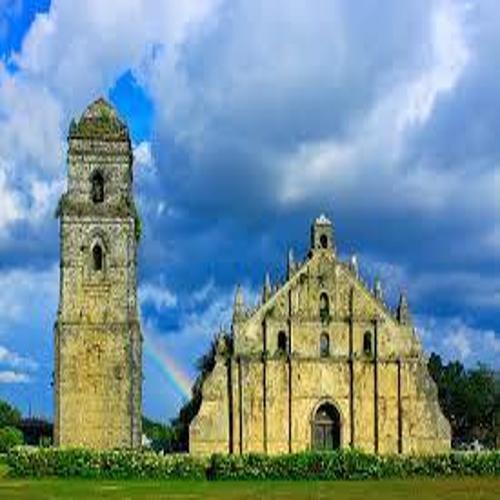Paoay Church: (50, 90, 457, 464)
